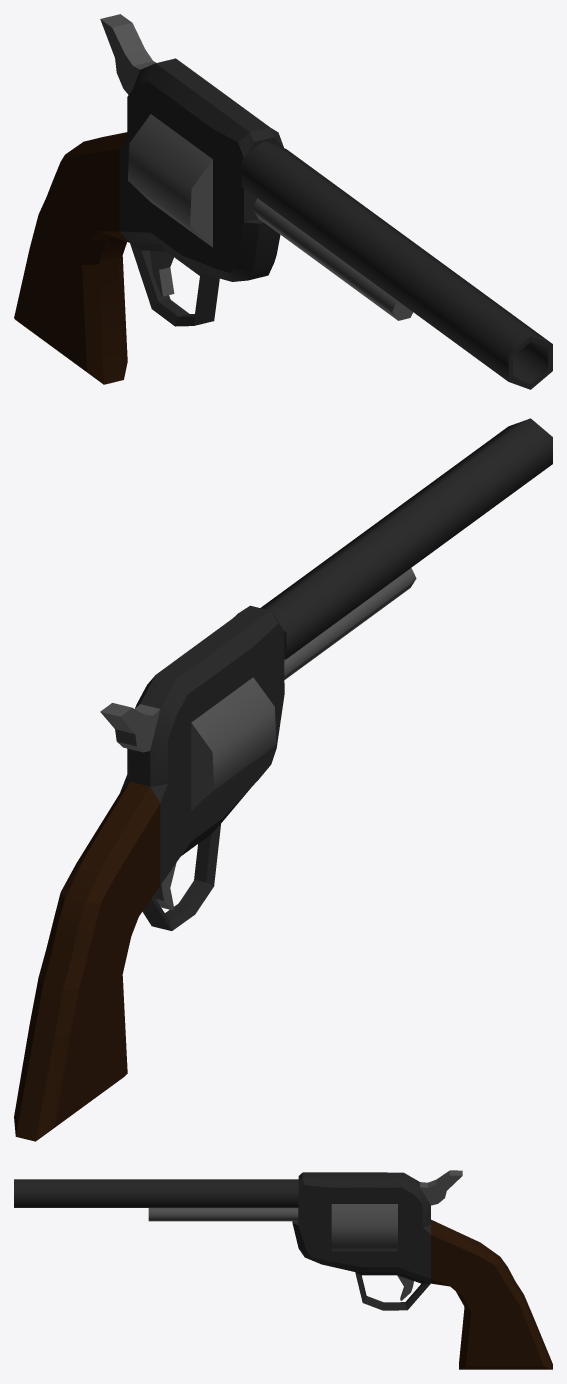
The model's file is Colt_revolver.FBX.
3 renders of one model, top to bottom at view 1: azimuth 30°, elevation 25°; view 2: azimuth 150°, elevation 25°; view 3: azimuth 270°, elevation 25°, orthographic. The views are drawn at different scales.
Visible parts, largest first — view 1: Box001, Tube001, Box002, Cylinder002, Cylinder001, Hammer, Triger; view 2: Box002, Box001, Tube001, Cylinder002, Cylinder001, Hammer; view 3: Box001, Box002, Tube001, Cylinder002, Cylinder001, Hammer.
Part boxes in pixels (box(x1,y1,x2,y2)): Box001: box(119, 58, 283, 326); Tube001: box(241, 141, 552, 389); Box002: box(14, 132, 129, 384); Cylinder002: box(128, 114, 212, 247); Cylinder001: box(252, 198, 413, 320); Hammer: box(100, 14, 156, 94); Triger: box(150, 251, 174, 296); Box002: box(14, 782, 160, 1141); Box001: box(120, 605, 284, 930); Tube001: box(260, 418, 552, 659); Cylinder002: box(191, 677, 276, 810); Cylinder001: box(284, 568, 416, 679); Hammer: box(100, 703, 160, 752); Box001: box(292, 1172, 430, 1310); Box002: box(431, 1219, 552, 1369); Tube001: box(14, 1179, 298, 1207); Cylinder002: box(331, 1204, 397, 1251); Cylinder001: box(148, 1208, 298, 1221); Hammer: box(420, 1170, 462, 1205).
Size of the model in its own units: 3.55 by 14.28 by 35.98.
